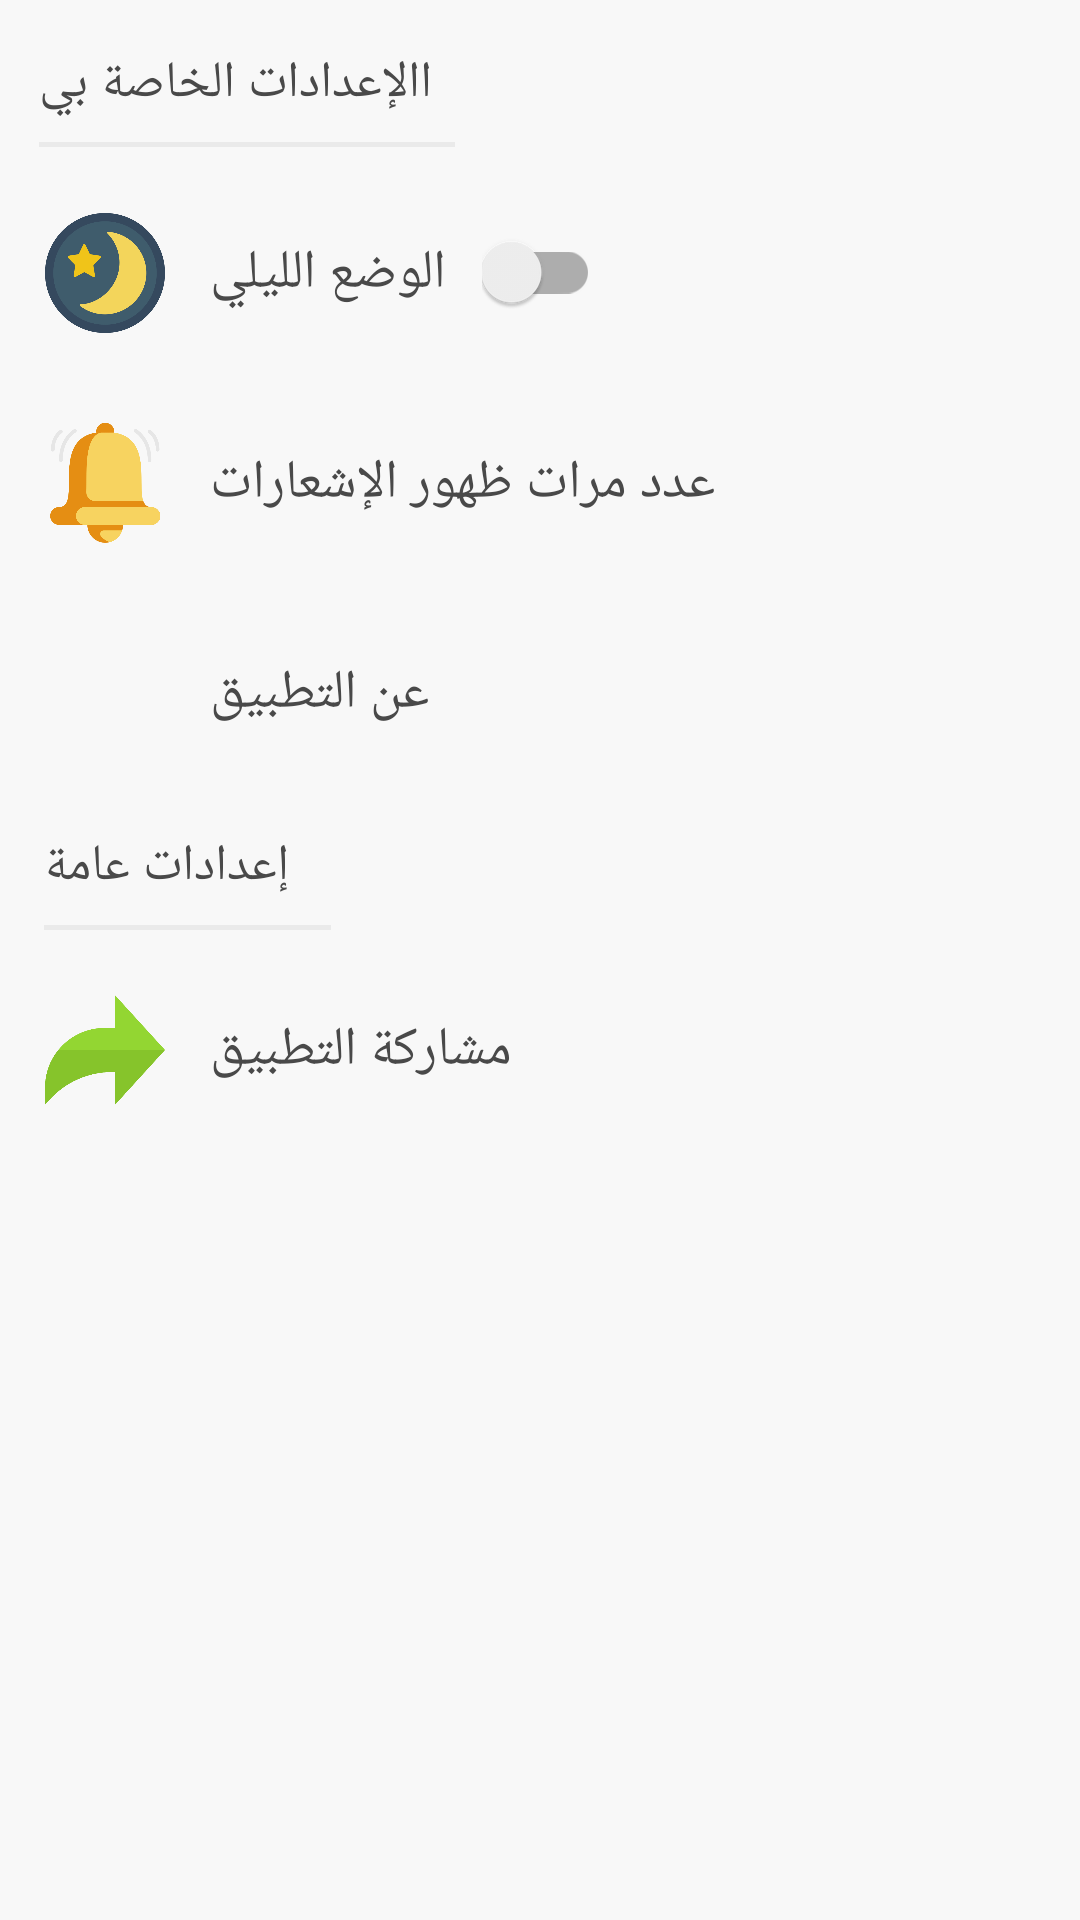

Where icons sit on this 1080 × 1920 app screen, as (x1, y1, x2, y2):
nightmode: (45, 213, 165, 333)
notification: (50, 423, 160, 543)
share: (45, 996, 165, 1104)
